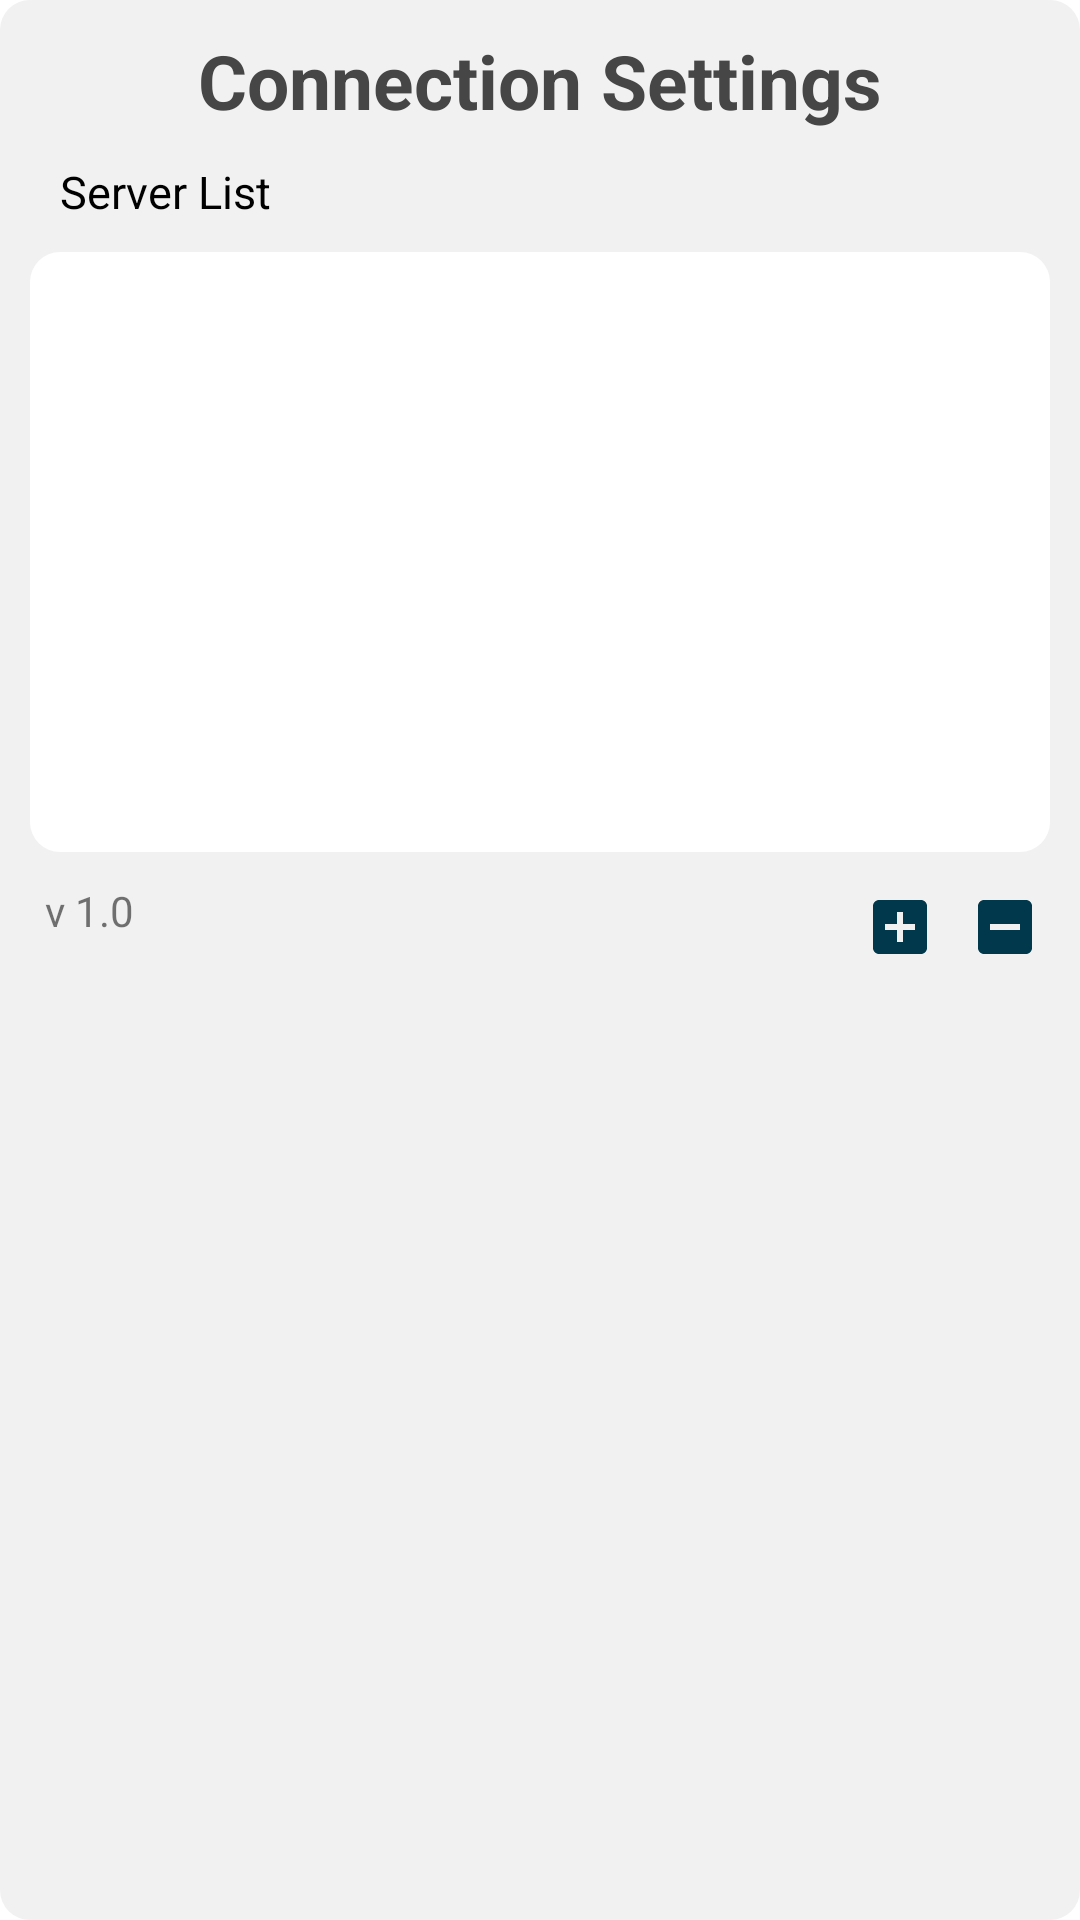

Icons on this 1080px×1920px Android screen, each with its box as (x1, y1, x2, y2):
add box: (873, 900, 927, 954)
indeterminate check box: (978, 900, 1032, 954)
